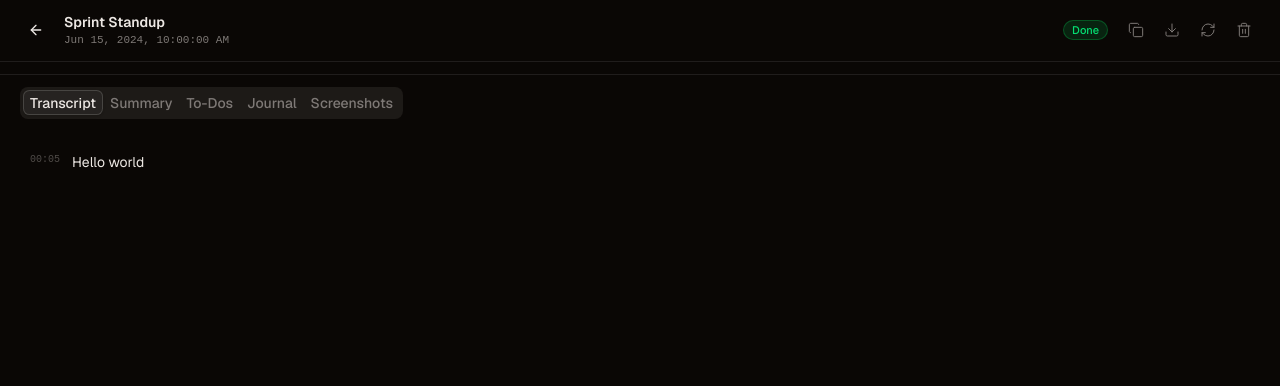
Transcript › shows summary content on the Summary tab
The image size is (1280, 386).
Click the tab "Summary". click: (141, 102)
box: [103, 90, 180, 115]
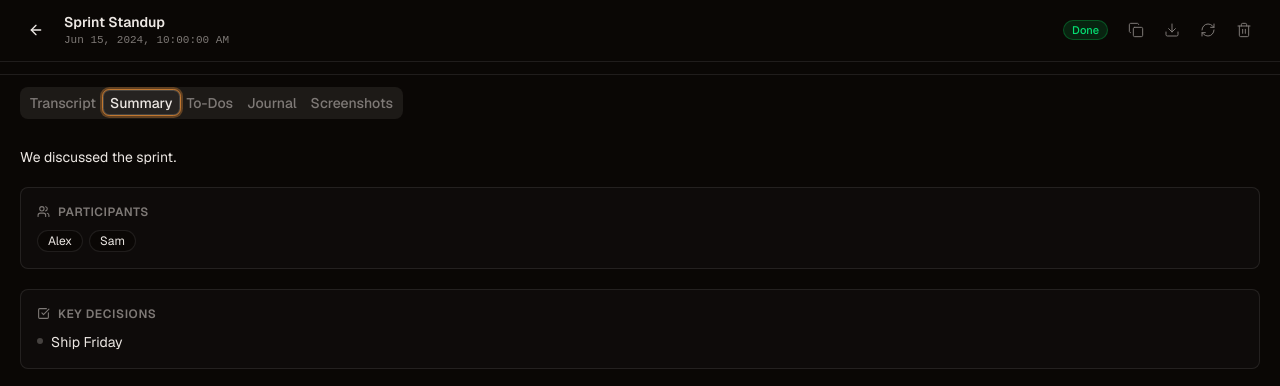
Check: the text "We discussed the sprint." is shown, box [20, 148, 176, 166]
Check: the text "Alex" is shown, box [37, 230, 83, 252]
Check: the list item "Ship Friday" is shown, box [37, 332, 123, 350]
